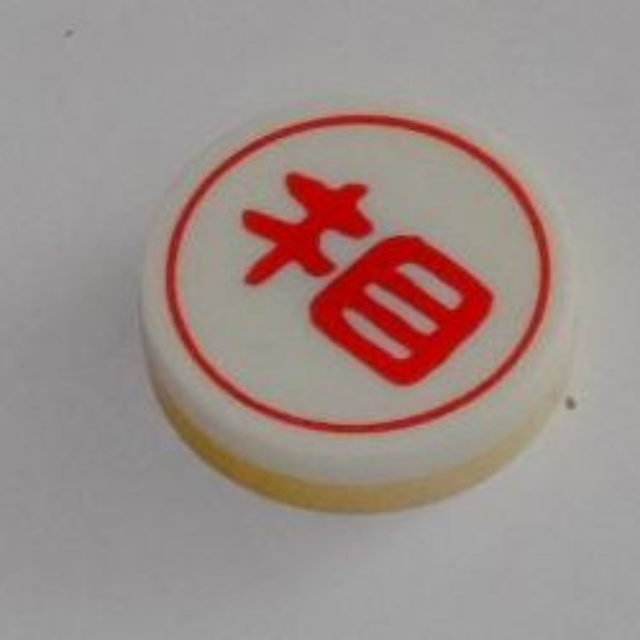red_bo: (130, 90, 585, 521)
